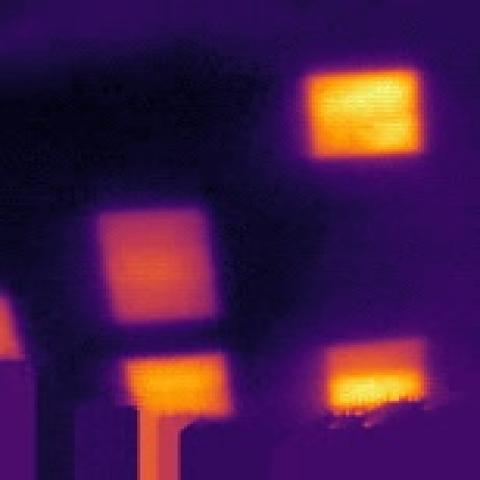fault: (88, 205, 241, 333), (294, 65, 431, 164), (303, 337, 446, 420), (111, 346, 246, 428), (0, 288, 37, 372)
